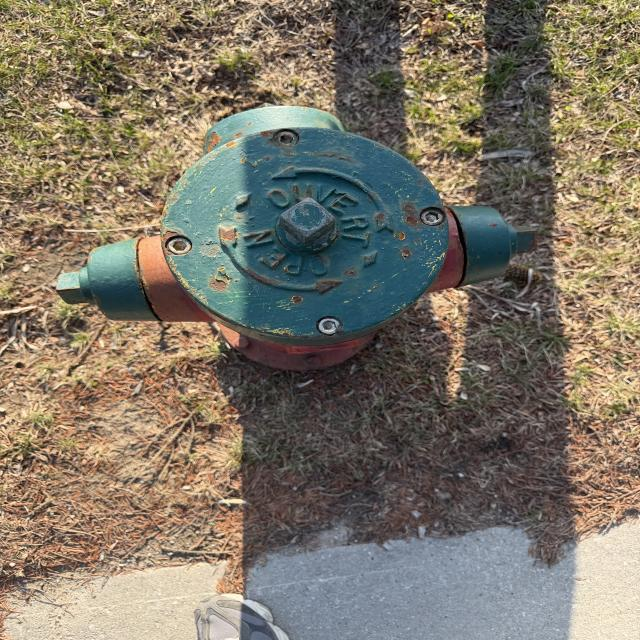Fire hydrant: (55, 102, 539, 371)
